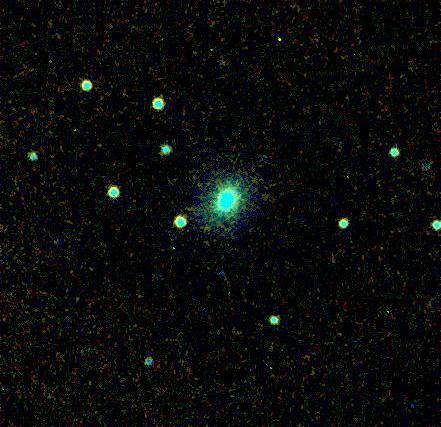star: (267, 26, 297, 56)
